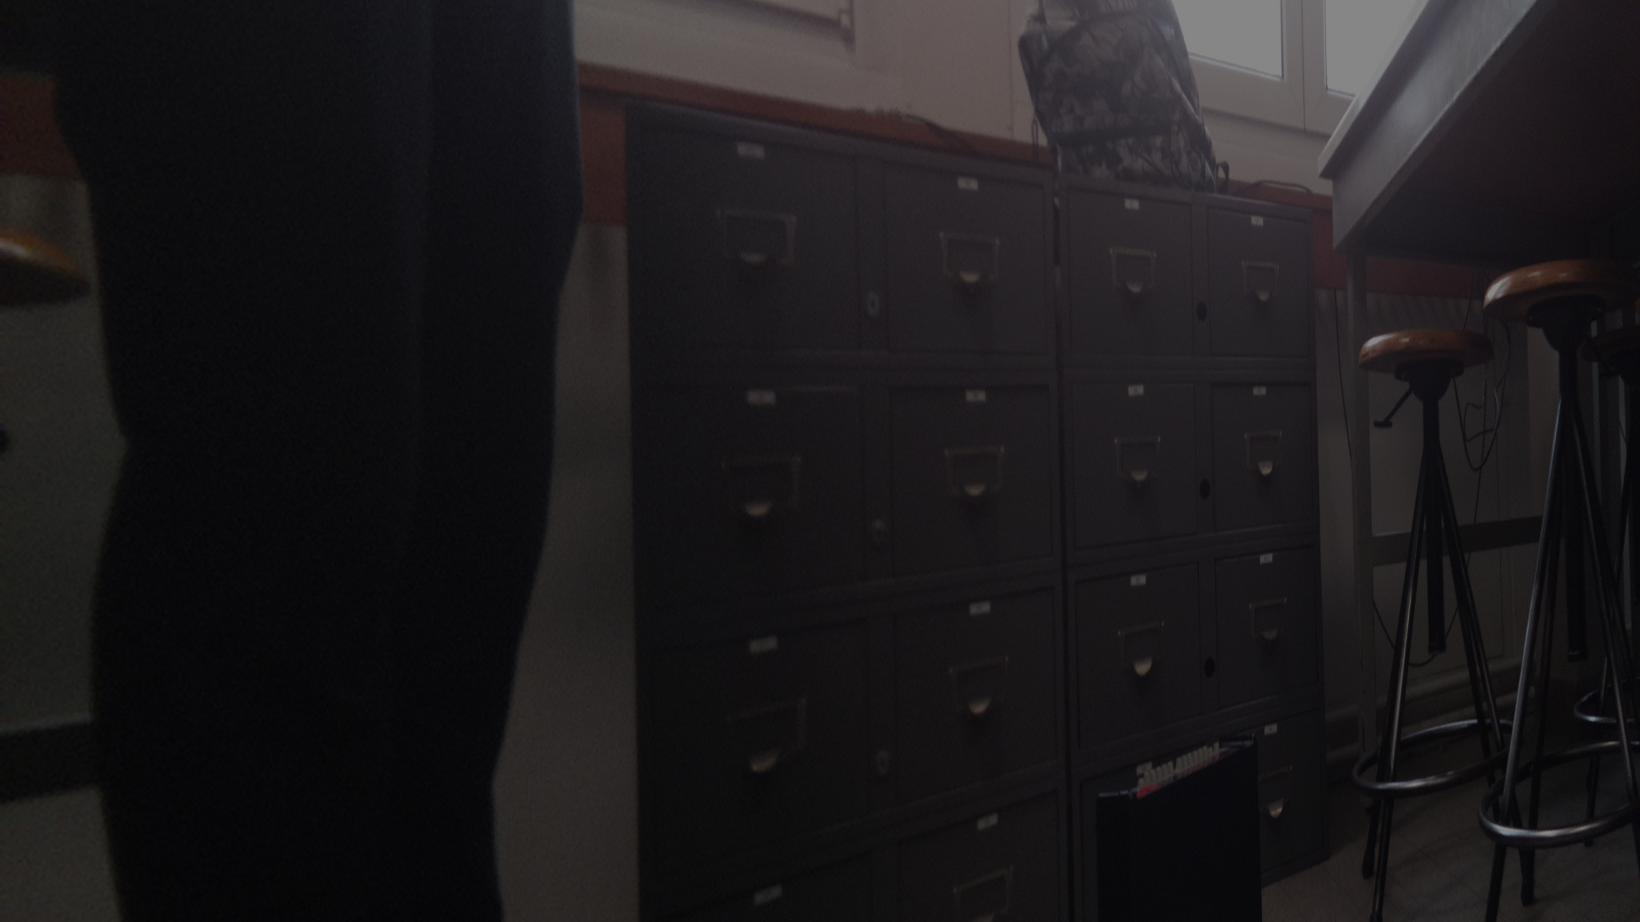big: (1020, 3, 1216, 183)
medium: (1095, 733, 1262, 922)
